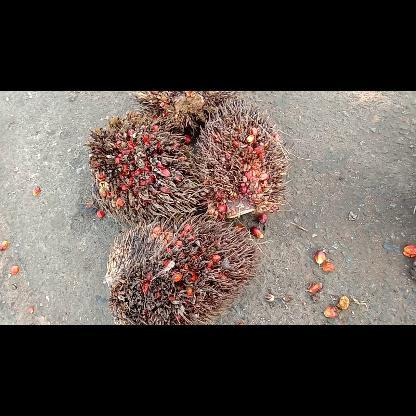Terlalu masak: (102, 210, 260, 324), (81, 110, 213, 232), (185, 95, 291, 217), (129, 90, 238, 140)
